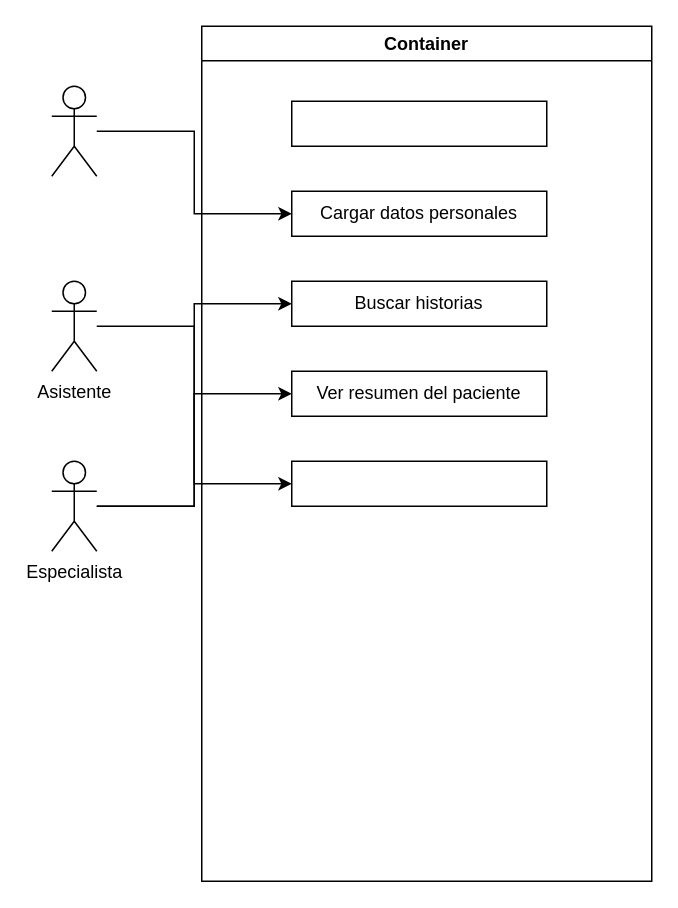
The diagram is 678 pixels wide and 908 high, and some of its shapes have lost their labels. The centre of each missing label's shape, as x and y in pixels:
Asignar citas: the point at 418,483
Inicio de sesión: the point at 418,123
Paciente: the point at 73,130
